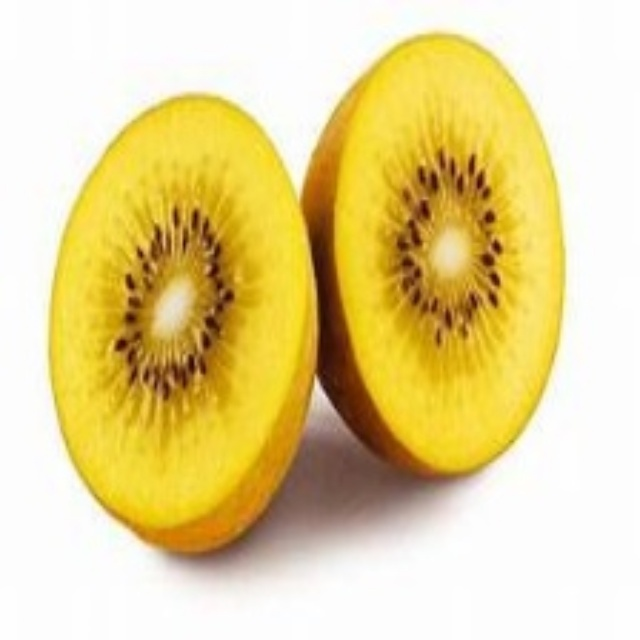kiwi: (49, 80, 330, 566), (318, 30, 569, 487)
